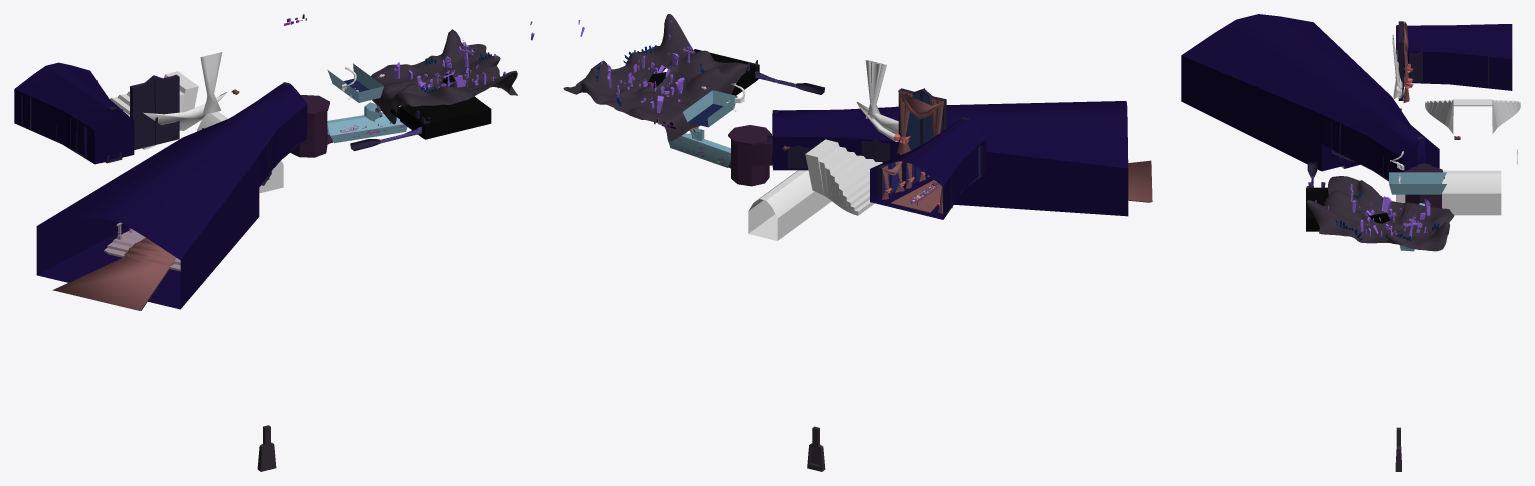
File: tokotoko_no_stairs_FBX.fbx
3 renders of one model, left to right at view 1: azimuth 30°, elevation 25°; view 2: azimuth 150°, elevation 25°; view 3: azimuth 270°, elevation 25°, orthographic. The views are drawn at different scales.
Parts seen in each view (by area): view 1: ÄLÄPOSITATÄTÄVITTU, entire_diningroom', graveyardÄLÄPOSTAAAAAAA, table.001where toeat.004, Cube.108, Cube.055, Cube.007, Cylinder.002, roomkitchen_jic, Cube.018, Cube.109, Plane.001 (+3 smaller); view 2: ÄLÄPOSITATÄTÄVITTU, graveyardÄLÄPOSTAAAAAAA, entire_diningroom', Cube.018, table.001where toeat.001, Cube.108, Cylinder.002, Cube.007, roomkitchen_jic, table.001where toeat.003, table.001where toeat.004, Cube.109 (+1 smaller); view 3: ÄLÄPOSITATÄTÄVITTU, entire_diningroom', graveyardÄLÄPOSTAAAAAAA, table.001where toeat.001, Cube.018, roomkitchen_jic, Cube.108, Cylinder.002, Cube.055.
Boxes of the visible parts, left/top/right/bottom form: ÄLÄPOSITATÄTÄVITTU: left=36, top=82, right=307, bottom=309; entire_diningroom': left=14, top=62, right=134, bottom=164; graveyardÄLÄPOSTAAAAAAA: left=371, top=21, right=534, bottom=124; table.001where toeat.004: left=52, top=238, right=176, bottom=310; Cube.108: left=130, top=74, right=179, bottom=149; Cube.055: left=399, top=96, right=491, bottom=139; Cube.007: left=327, top=102, right=407, bottom=142; Cylinder.002: left=290, top=95, right=332, bottom=157; roomkitchen_jic: left=327, top=63, right=383, bottom=102; Cube.018: left=110, top=71, right=198, bottom=149; Cube.109: left=200, top=52, right=222, bottom=115; Plane.001: left=143, top=92, right=227, bottom=130; ÄLÄPOSITATÄTÄVITTU: left=767, top=101, right=1128, bottom=216; graveyardÄLÄPOSTAAAAAAA: left=563, top=14, right=747, bottom=141; entire_diningroom': left=870, top=117, right=986, bottom=219; Cube.018: left=805, top=139, right=882, bottom=215; table.001where toeat.001: left=748, top=170, right=831, bottom=240; Cube.108: left=894, top=88, right=946, bottom=154; Cylinder.002: left=728, top=125, right=771, bottom=186; Cube.007: left=668, top=128, right=730, bottom=167; roomkitchen_jic: left=682, top=90, right=737, bottom=127; table.001where toeat.003: left=787, top=139, right=890, bottom=168; table.001where toeat.004: left=1128, top=160, right=1152, bottom=202; Cube.109: left=865, top=60, right=886, bottom=119; ÄLÄPOSITATÄTÄVITTU: left=1181, top=14, right=1439, bottom=181; entire_diningroom': left=1395, top=24, right=1512, bottom=90; graveyardÄLÄPOSTAAAAAAA: left=1307, top=176, right=1454, bottom=251; table.001where toeat.001: left=1396, top=170, right=1501, bottom=215; Cube.018: left=1425, top=99, right=1520, bottom=133; roomkitchen_jic: left=1389, top=172, right=1446, bottom=194; Cube.108: left=1397, top=21, right=1413, bottom=102; Cylinder.002: left=1404, top=164, right=1444, bottom=208; Cube.055: left=1306, top=187, right=1328, bottom=231.
Size of the model in its own units: 84878 by 65241 by 49919.
